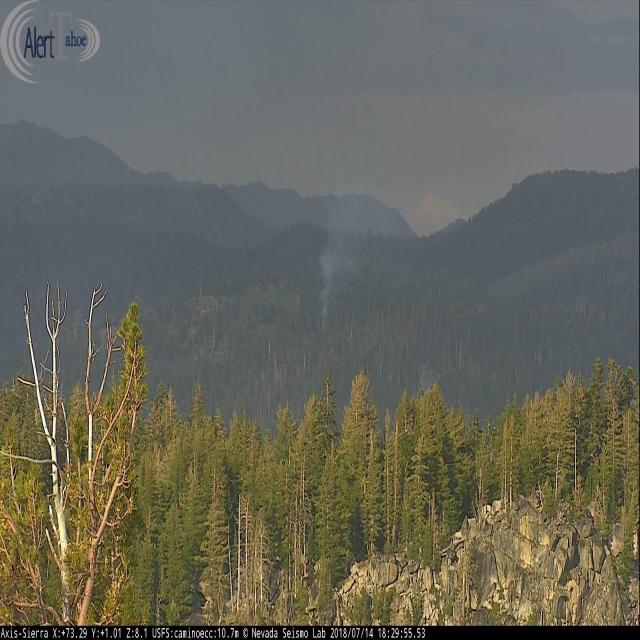smoke: (317, 165, 397, 328)
